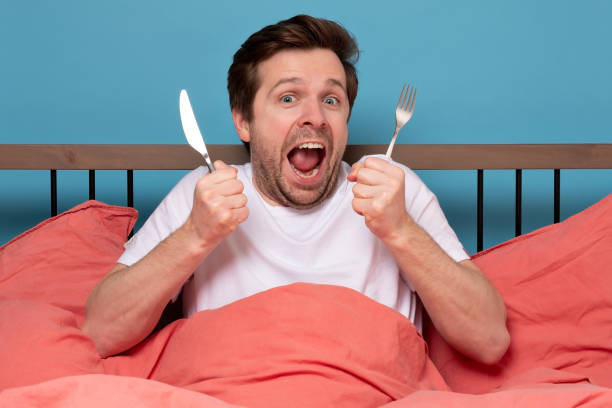knife: (177, 87, 218, 175)
